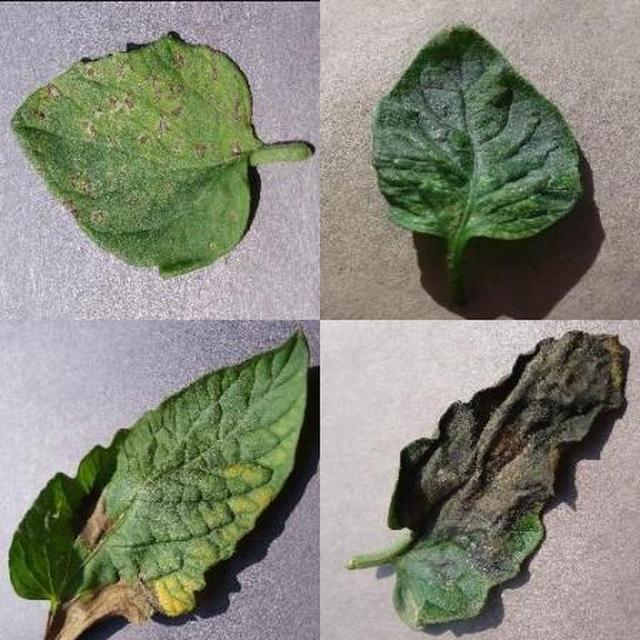Septoria Leaf: (191, 188, 640, 640)
